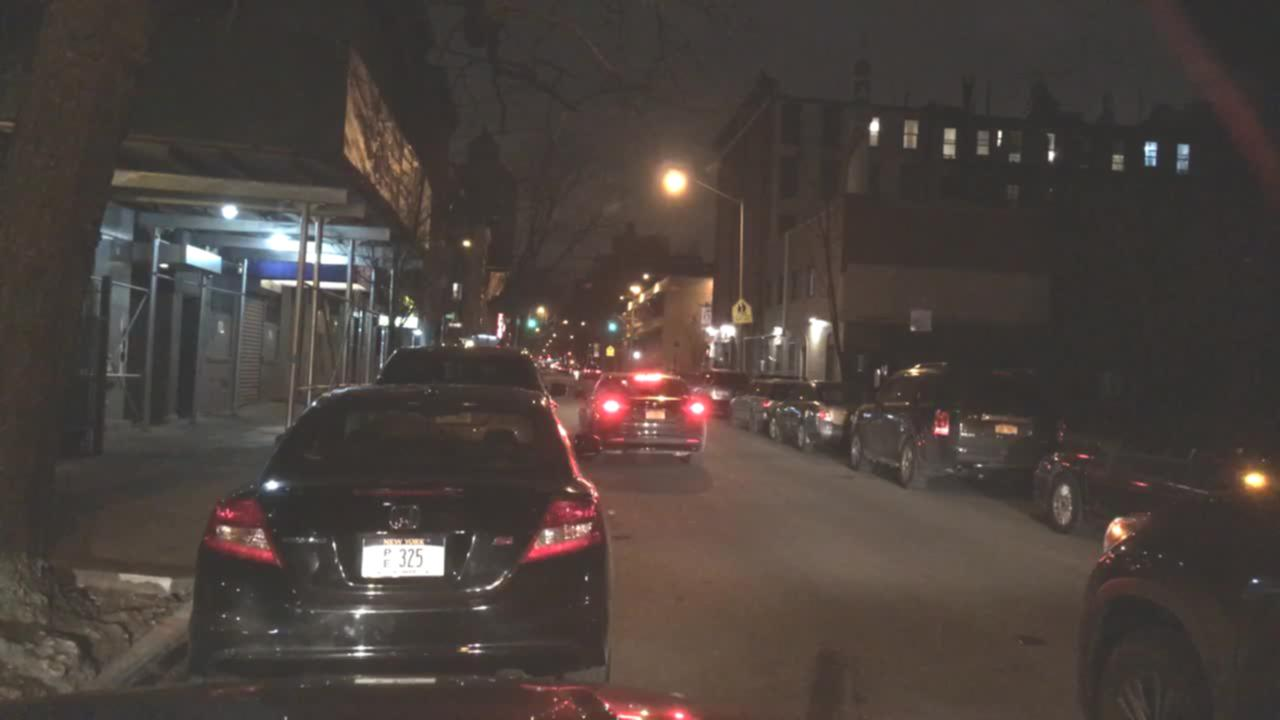Honda: (377, 497, 428, 543)
